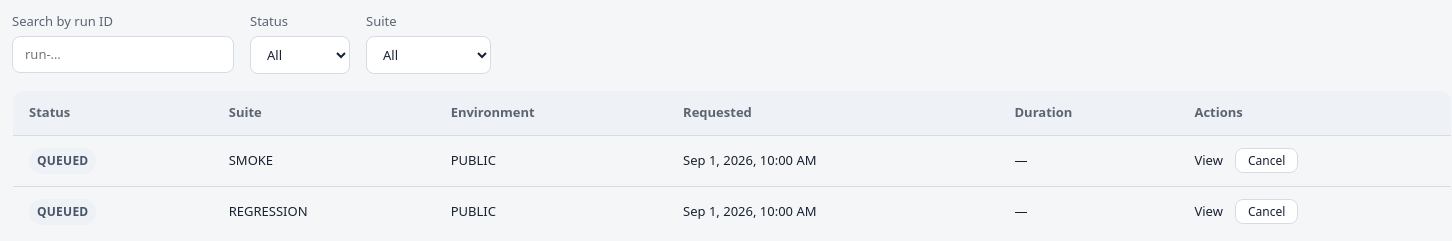
Test: RunsTable › filters rows by suite
Select "REGRESSION" in the dropdown labelled "Suite" at (428, 54), box x1=366 y1=36 x2=491 y2=74
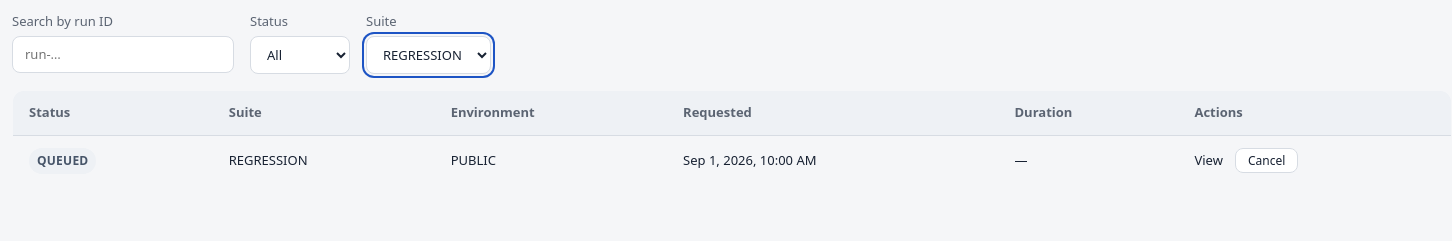
Now the number of links "View" is 1, box x1=1194 y1=150 x2=1223 y2=170
